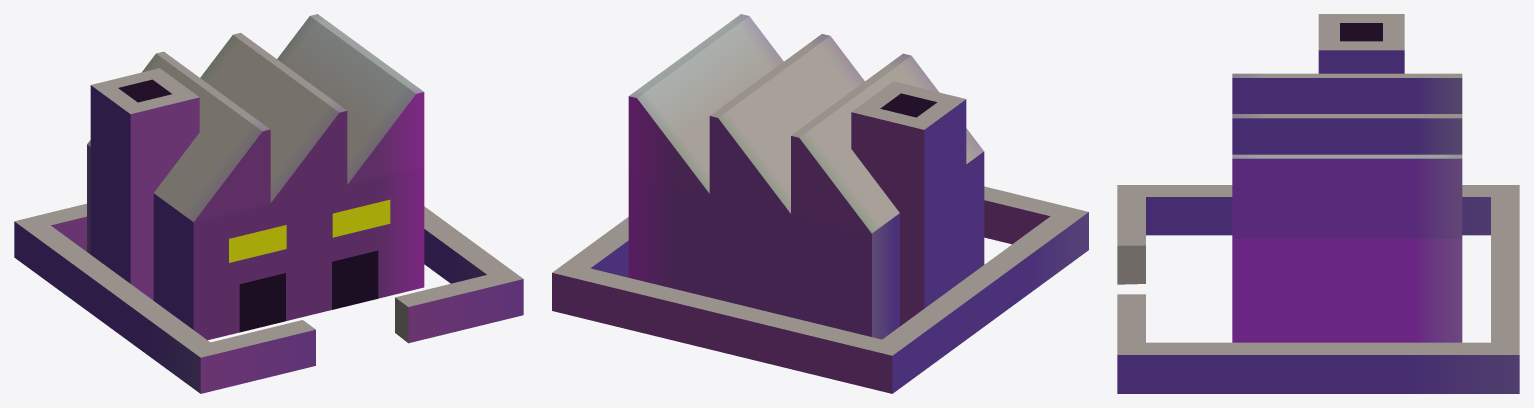
File: Factory.BlackHole.glb
3 renders of one model, left to right at view 1: azimuth 30°, elevation 25°; view 2: azimuth 150°, elevation 25°; view 3: azimuth 270°, elevation 25°, orthographic. The views are drawn at different scales.
Parts seen in each view (by area): view 1: Factory.BlackHole; view 2: Factory.BlackHole; view 3: Factory.BlackHole.
Boxes of the visible parts, box(x1,y1,x2,y2) form: Factory.BlackHole: box(14, 14, 523, 393); Factory.BlackHole: box(552, 14, 1088, 393); Factory.BlackHole: box(1117, 14, 1519, 393).
Bounding box in the file's own units: 2.8 × 1.71 × 2.8.
2 materials, 1 textured.
